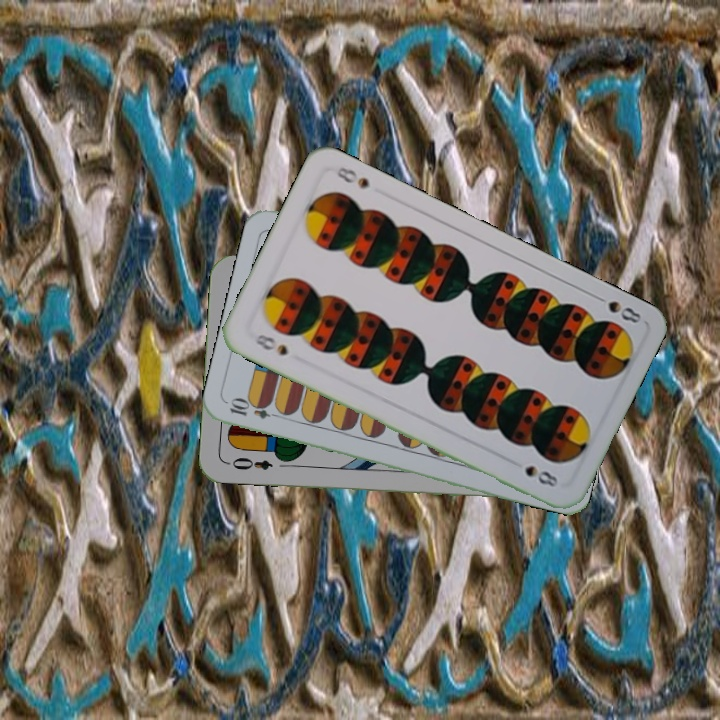E10: (226, 397, 285, 422)
EO: (223, 453, 275, 473)
S8: (589, 290, 644, 326), (249, 330, 291, 358)
